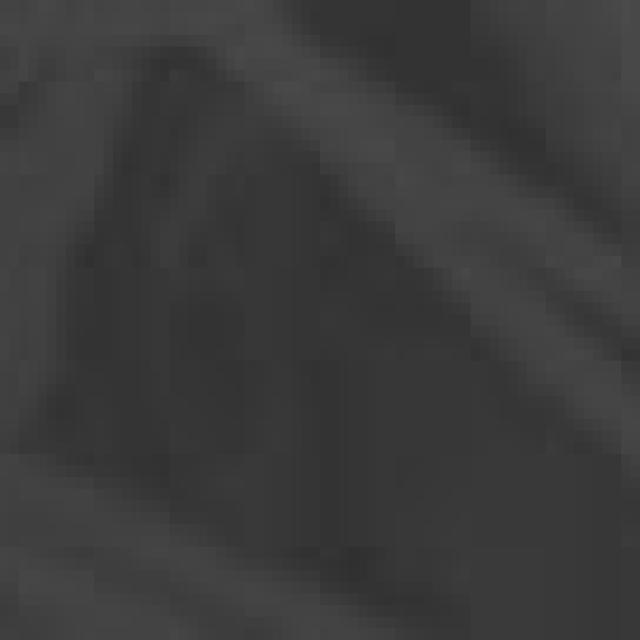fracture: (5, 2, 640, 640)
